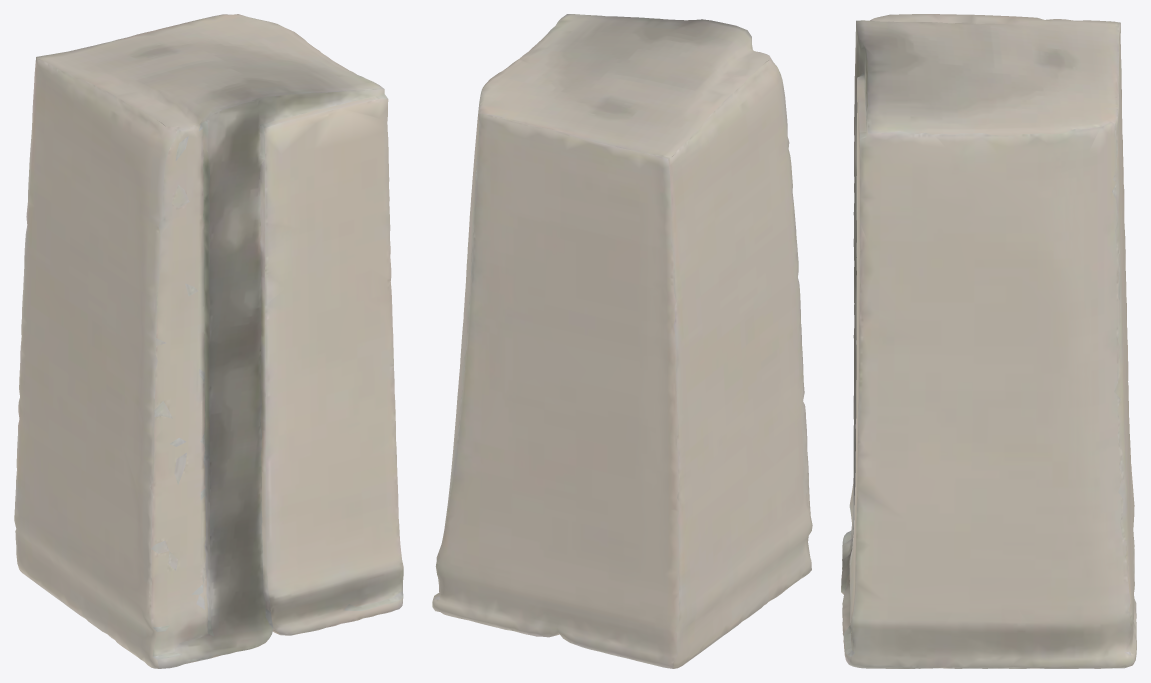
File: 21_curtains.glb
The picture shows the model from 3 angles, left to right: view 1: azimuth 30°, elevation 25°; view 2: azimuth 150°, elevation 25°; view 3: azimuth 270°, elevation 25°; orthographic projection. The views are drawn at different scales.
Visible parts, largest first — view 1: geometry_0; view 2: geometry_0; view 3: geometry_0.
Part boxes in pixels (x1,y1,x2,y2): geometry_0: (14,14,403,668); geometry_0: (432,14,812,668); geometry_0: (841,14,1136,668).
Bounding box in the file's own units: 0.9383 × 1.9 × 0.9097.
Materials: 1 (1 with a texture image).
